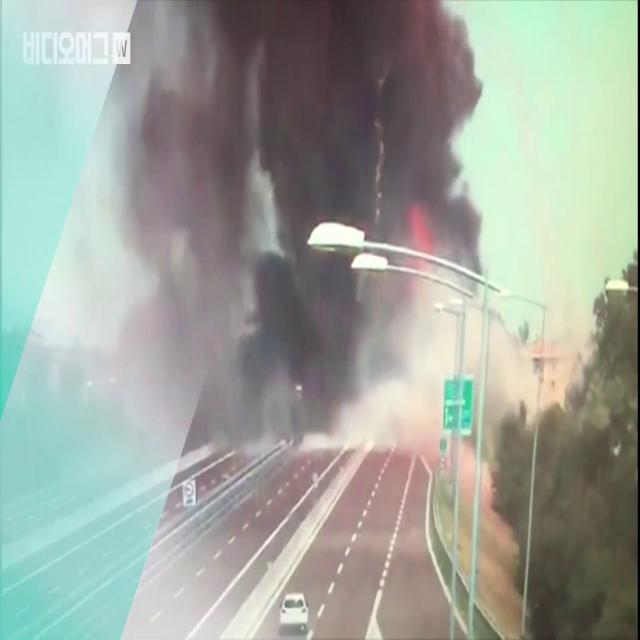explosion: (129, 3, 475, 504)
